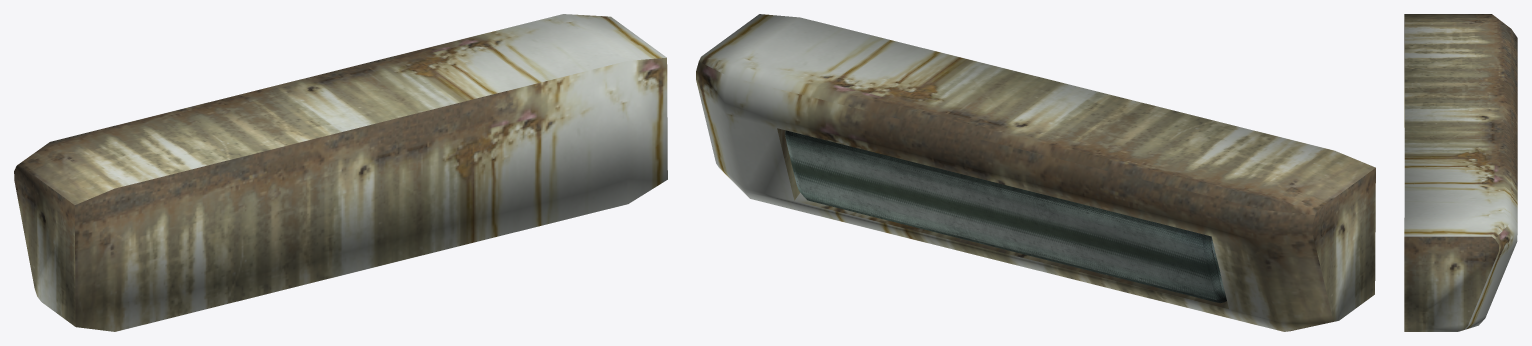
The model's file is Corridor_00_Lamp_00.fbx.
3 renders of one model, left to right at view 1: azimuth 30°, elevation 25°; view 2: azimuth 150°, elevation 25°; view 3: azimuth 270°, elevation 25°, orthographic. The views are drawn at different scales.
Visible parts, largest first — view 1: Corridor_00_Lamp_00; view 2: Corridor_00_Lamp_00, Corridor_00_00.007; view 3: Corridor_00_Lamp_00.
Boxes of the visible parts, x1,y1,x2,y2 form: Corridor_00_Lamp_00: (14,14,667,331); Corridor_00_Lamp_00: (696,14,1375,331); Corridor_00_00.007: (785,130,1226,303); Corridor_00_Lamp_00: (1404,14,1517,331).
Size of the model in its own units: 178 by 41.81 by 37.76.
